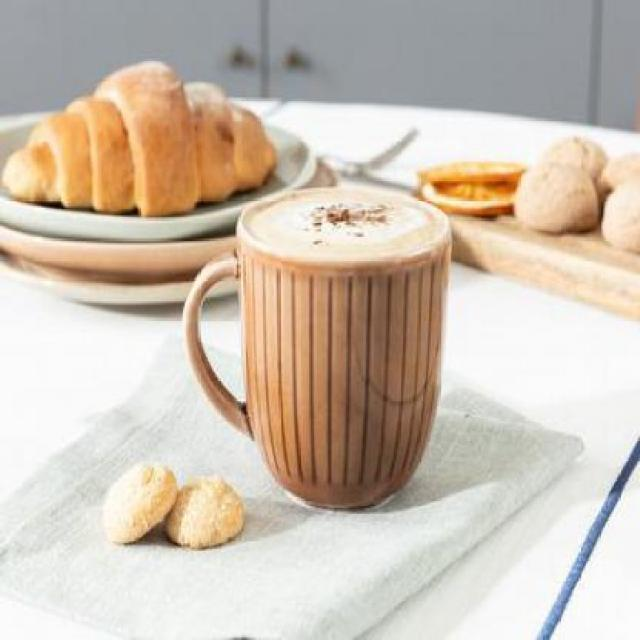taza: (181, 185, 455, 513)
